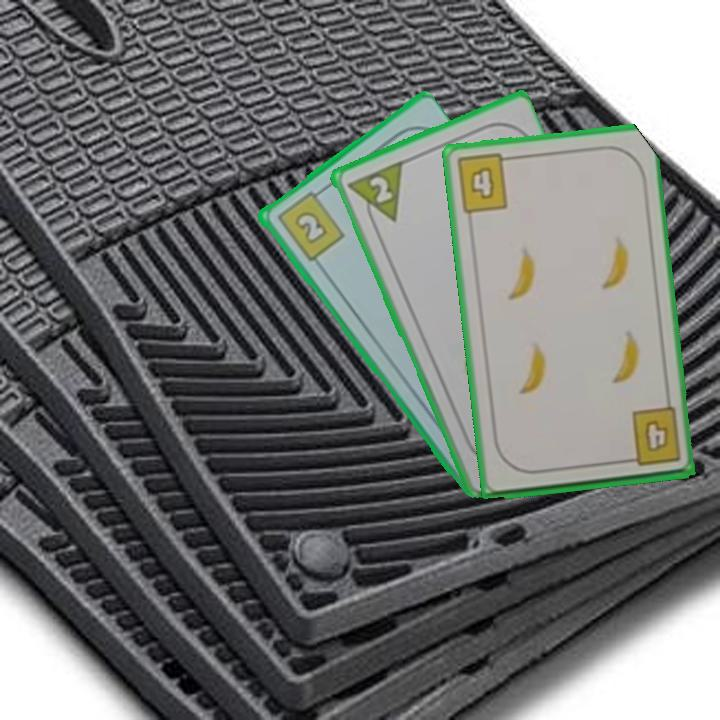2b: (273, 185, 347, 264)
2p: (342, 157, 405, 232)
4b: (619, 404, 684, 469), (452, 150, 516, 216)
